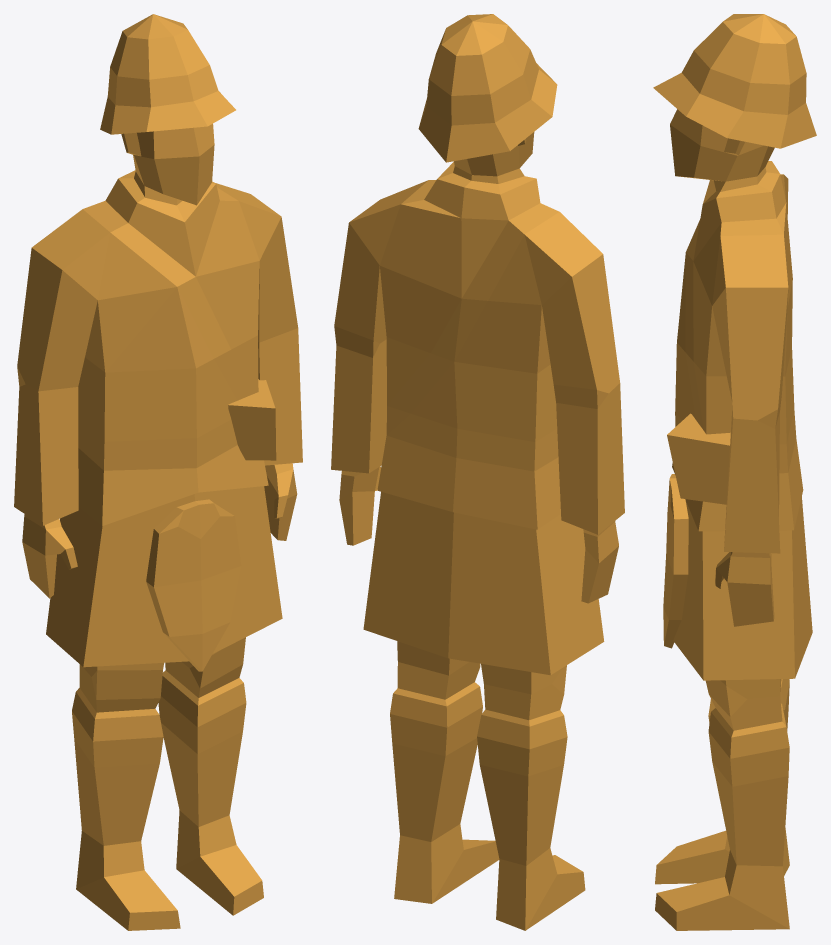
File: man-zulu-scottish.fbx
The picture shows the model from 3 angles, left to right: view 1: azimuth 30°, elevation 25°; view 2: azimuth 150°, elevation 25°; view 3: azimuth 270°, elevation 25°; orthographic projection.
Visible parts, largest first — view 1: man-zulu-scottish; view 2: man-zulu-scottish; view 3: man-zulu-scottish.
Part boxes in pixels (<box>): man-zulu-scottish: <box>14,14,302,930</box>; man-zulu-scottish: <box>331,14,624,930</box>; man-zulu-scottish: <box>653,14,816,930</box>.
Bounding box in the file's own units: 0.6009 × 1.9 × 0.3199.
